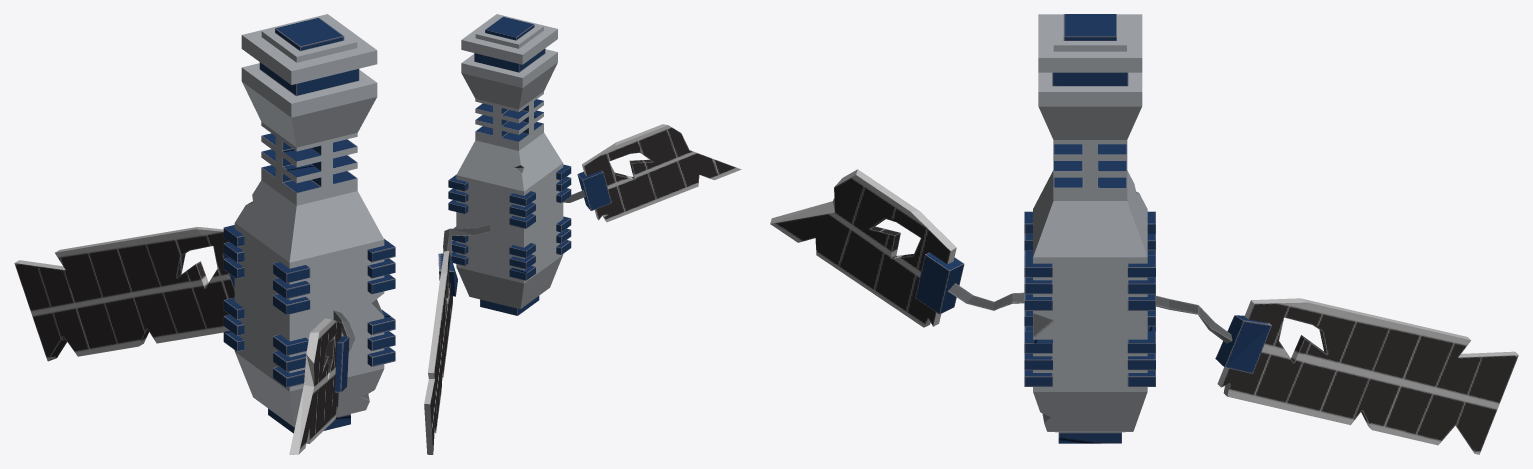
Rendered from qubix_props_Sputnik_Vedin_001.fbx.
The picture shows the model from 3 angles, left to right: view 1: azimuth 30°, elevation 25°; view 2: azimuth 150°, elevation 25°; view 3: azimuth 270°, elevation 25°; orthographic projection. The views are drawn at different scales.
Visible parts, largest first — view 1: Sputnik; view 2: Sputnik; view 3: Sputnik.
Part boxes in pixels (bbox=[...]): Sputnik: bbox=[14, 14, 395, 454]; Sputnik: bbox=[424, 14, 741, 454]; Sputnik: bbox=[770, 14, 1518, 454].
Size of the model in its own units: 479 by 898 by 1308.
Materials: 1 (1 with a texture image).
